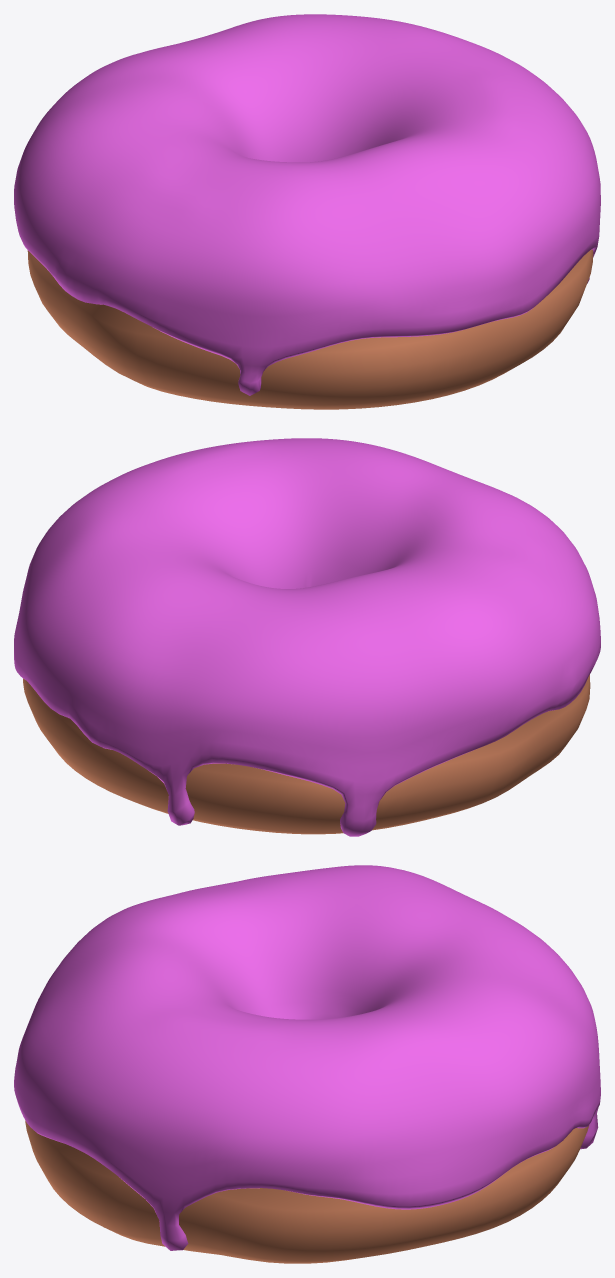
Rendered from donut.glb.
The picture shows the model from 3 angles, top to bottom: view 1: azimuth 30°, elevation 25°; view 2: azimuth 150°, elevation 25°; view 3: azimuth 270°, elevation 25°; orthographic projection.
Parts seen in each view (by area): view 1: Icing, Donut; view 2: Icing, Donut; view 3: Icing, Donut.
Boxes of the visible parts, box(x1,y1,x2,y2) form: Icing: box(14, 14, 600, 395); Donut: box(27, 249, 593, 409); Icing: box(14, 438, 600, 836); Donut: box(23, 675, 590, 834); Icing: box(14, 865, 600, 1250); Donut: box(25, 1120, 589, 1263).
Size of what is drawn, in the model's own units: 0.1006 by 0.044 by 0.099.
